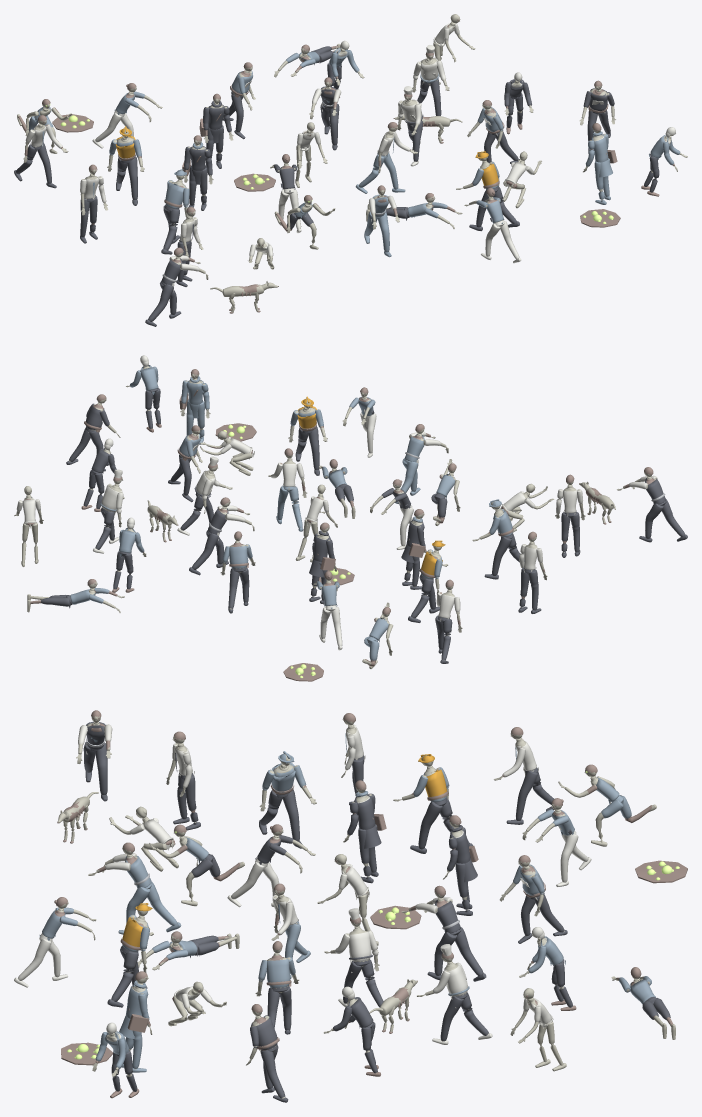
File: undead-horde-and-infected-variants-stree-adbe2675-starter-scene__12020.glb
The picture shows the model from 3 angles, top to bottom: view 1: azimuth 30°, elevation 25°; view 2: azimuth 150°, elevation 25°; view 3: azimuth 270°, elevation 25°; orthographic projection. The views are drawn at different scales.
Visible parts, largest first — view 1: 011-walker-transit-commuter/2, 025-walker-transit-commuter/2, 003-walker-transit-commuter/2, 028-walker-garage-mechanic-lunging/2, 021-walker-garage-mechanic-lunging/2, 005-walker-garage-mechanic-lunging/2, 014-walker-office-clerk-lurching/2, 001-walker-site-worker/2, 000-walker-office-clerk-lurching/2, 007-walker-kitchen-chef-lurching/2, 029-walker-ward-nurse-lunging/2, 009-walker-office-clerk/2 (+9 smaller); view 2: 025-walker-transit-commuter/2, 028-walker-garage-mechanic-lunging/2, 005-walker-garage-mechanic-lunging/2, 003-walker-transit-commuter/2, 011-walker-transit-commuter/2, 021-walker-garage-mechanic-lunging/2, 009-walker-office-clerk/2, 018-walker-office-clerk/2, 023-walker-site-worker/2, 001-walker-site-worker/2, 004-walker-shop-keeper/2, 014-walker-office-clerk-lurching/2 (+12 smaller); view 3: 011-walker-transit-commuter/2, 005-walker-garage-mechanic-lunging/2, 003-walker-transit-commuter/2, 021-walker-garage-mechanic-lunging/2, 028-walker-garage-mechanic-lunging/2, 025-walker-transit-commuter/2, 015-walker-kitchen-chef-lurching/2, 010-walker-site-worker/2, 008-walker-ward-patient/1, 007-walker-kitchen-chef-lurching/2, 001-walker-site-worker/2, 029-walker-ward-nurse-lunging/2 (+22 smaller).
Part boxes in pixels (box(x1,y1,x2,y2)): 011-walker-transit-commuter/2: box(184, 146, 212, 210); 025-walker-transit-commuter/2: box(585, 133, 612, 204); 003-walker-transit-commuter/2: box(203, 104, 231, 168); 028-walker-garage-mechanic-lunging/2: box(145, 258, 182, 326); 021-walker-garage-mechanic-lunging/2: box(364, 194, 391, 257); 005-walker-garage-mechanic-lunging/2: box(320, 86, 339, 150); 014-walker-office-clerk-lurching/2: box(355, 152, 405, 193); 001-walker-site-worker/2: box(116, 156, 137, 205); 000-walker-office-clerk-lurching/2: box(14, 142, 56, 188); 007-walker-kitchen-chef-lurching/2: box(413, 45, 445, 107); 029-walker-ward-nurse-lunging/2: box(481, 220, 521, 263); 009-walker-office-clerk/2: box(80, 196, 97, 243); 025-walker-transit-commuter/2: box(181, 380, 209, 444); 028-walker-garage-mechanic-lunging/2: box(639, 478, 687, 542); 005-walker-garage-mechanic-lunging/2: box(189, 508, 228, 575); 003-walker-transit-commuter/2: box(309, 533, 334, 603); 011-walker-transit-commuter/2: box(401, 519, 425, 589); 021-walker-garage-mechanic-lunging/2: box(395, 434, 424, 503); 009-walker-office-clerk/2: box(518, 568, 541, 613); 018-walker-office-clerk/2: box(561, 511, 580, 557); 023-walker-site-worker/2: box(295, 427, 319, 475); 001-walker-site-worker/2: box(408, 574, 439, 622); 004-walker-shop-keeper/2: box(228, 567, 249, 613); 014-walker-office-clerk-lurching/2: box(276, 485, 303, 531); 011-walker-transit-commuter/2: box(347, 793, 381, 883); 005-walker-garage-mechanic-lunging/2: box(427, 899, 486, 981); 003-walker-transit-commuter/2: box(447, 827, 477, 915); 021-walker-garage-mechanic-lunging/2: box(118, 856, 181, 934); 028-walker-garage-mechanic-lunging/2: box(83, 721, 107, 801); 025-walker-transit-commuter/2: box(119, 984, 149, 1072); 015-walker-kitchen-chef-lurching/2: box(335, 908, 379, 1011); 010-walker-site-worker/2: box(259, 788, 302, 848); 008-walker-ward-patient/1: box(510, 988, 566, 1071); 007-walker-kitchen-chef-lurching/2: box(432, 944, 492, 1044); 001-walker-site-worker/2: box(410, 798, 472, 853); 029-walker-ward-nurse-lunging/2: box(14, 933, 67, 987).
Bounding box in the file's own units: 13.09 × 1.74 × 11.03.
